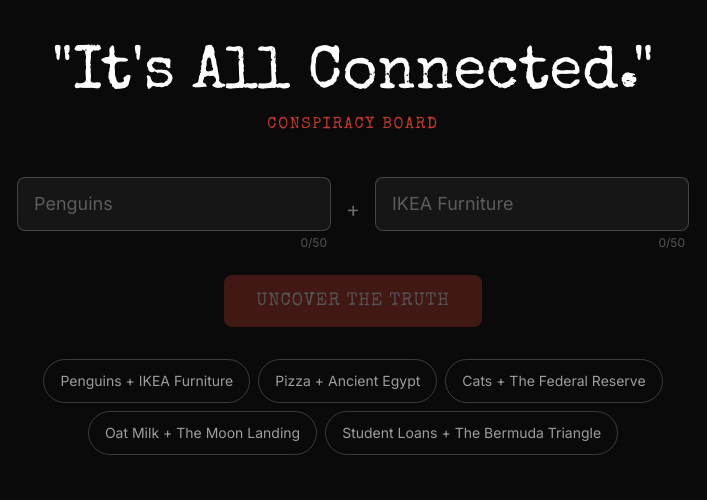
Test: LandingScreen › shows error for same-word inputs on submit
The width and height of the screenshot is (707, 500).
// Type same word — button stays disabled, but let's test via Enter key
Type "Same" into the field with test id "input-a".
click(174, 204); type("Same")  # box [17,177,331,231]
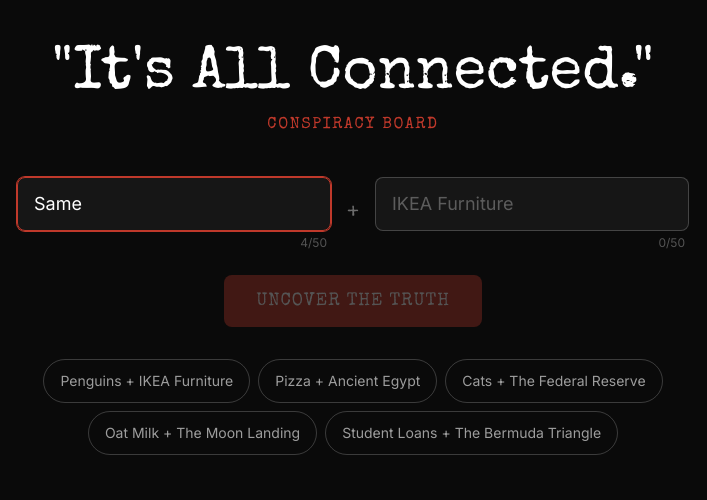
Type "same" into the field with test id "input-b".
click(532, 204); type("same")  # box [375,177,689,231]
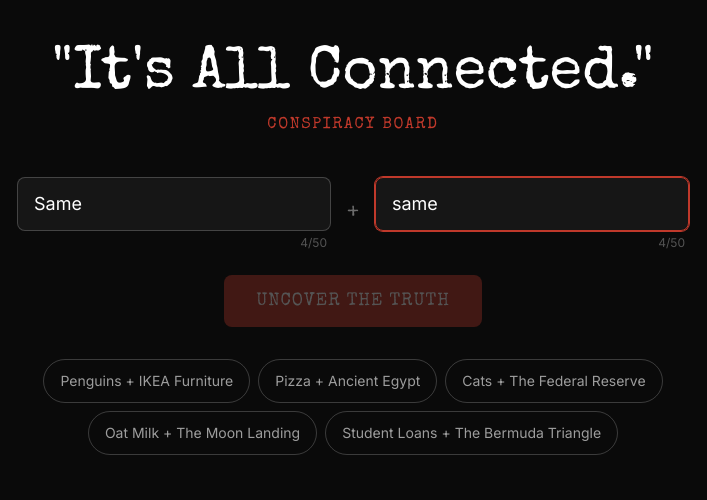
// Try submitting via Enter — should show error since validation runs
Press Enter in the field with test id "input-b", box [375,177,689,231]
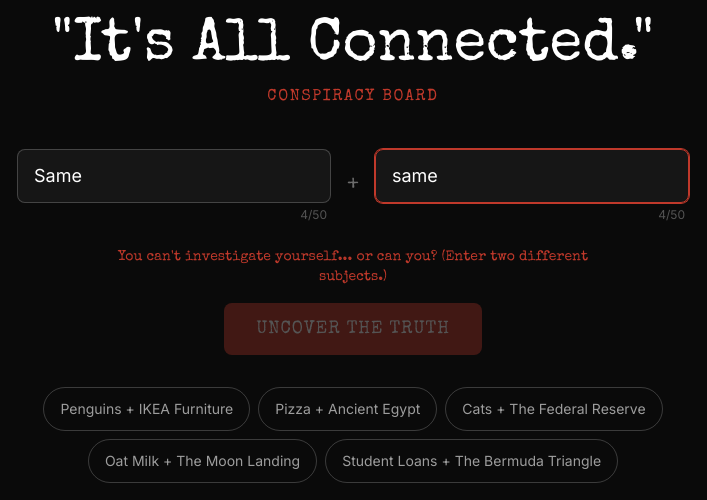
Check: the message with test id "error-message" shows "can't investigate yourself", box [118,250,588,284]
